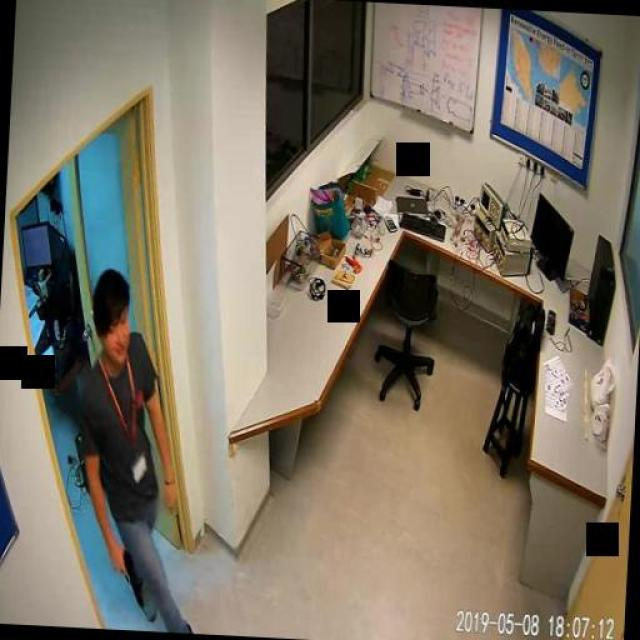gun: (119, 546, 142, 605)
